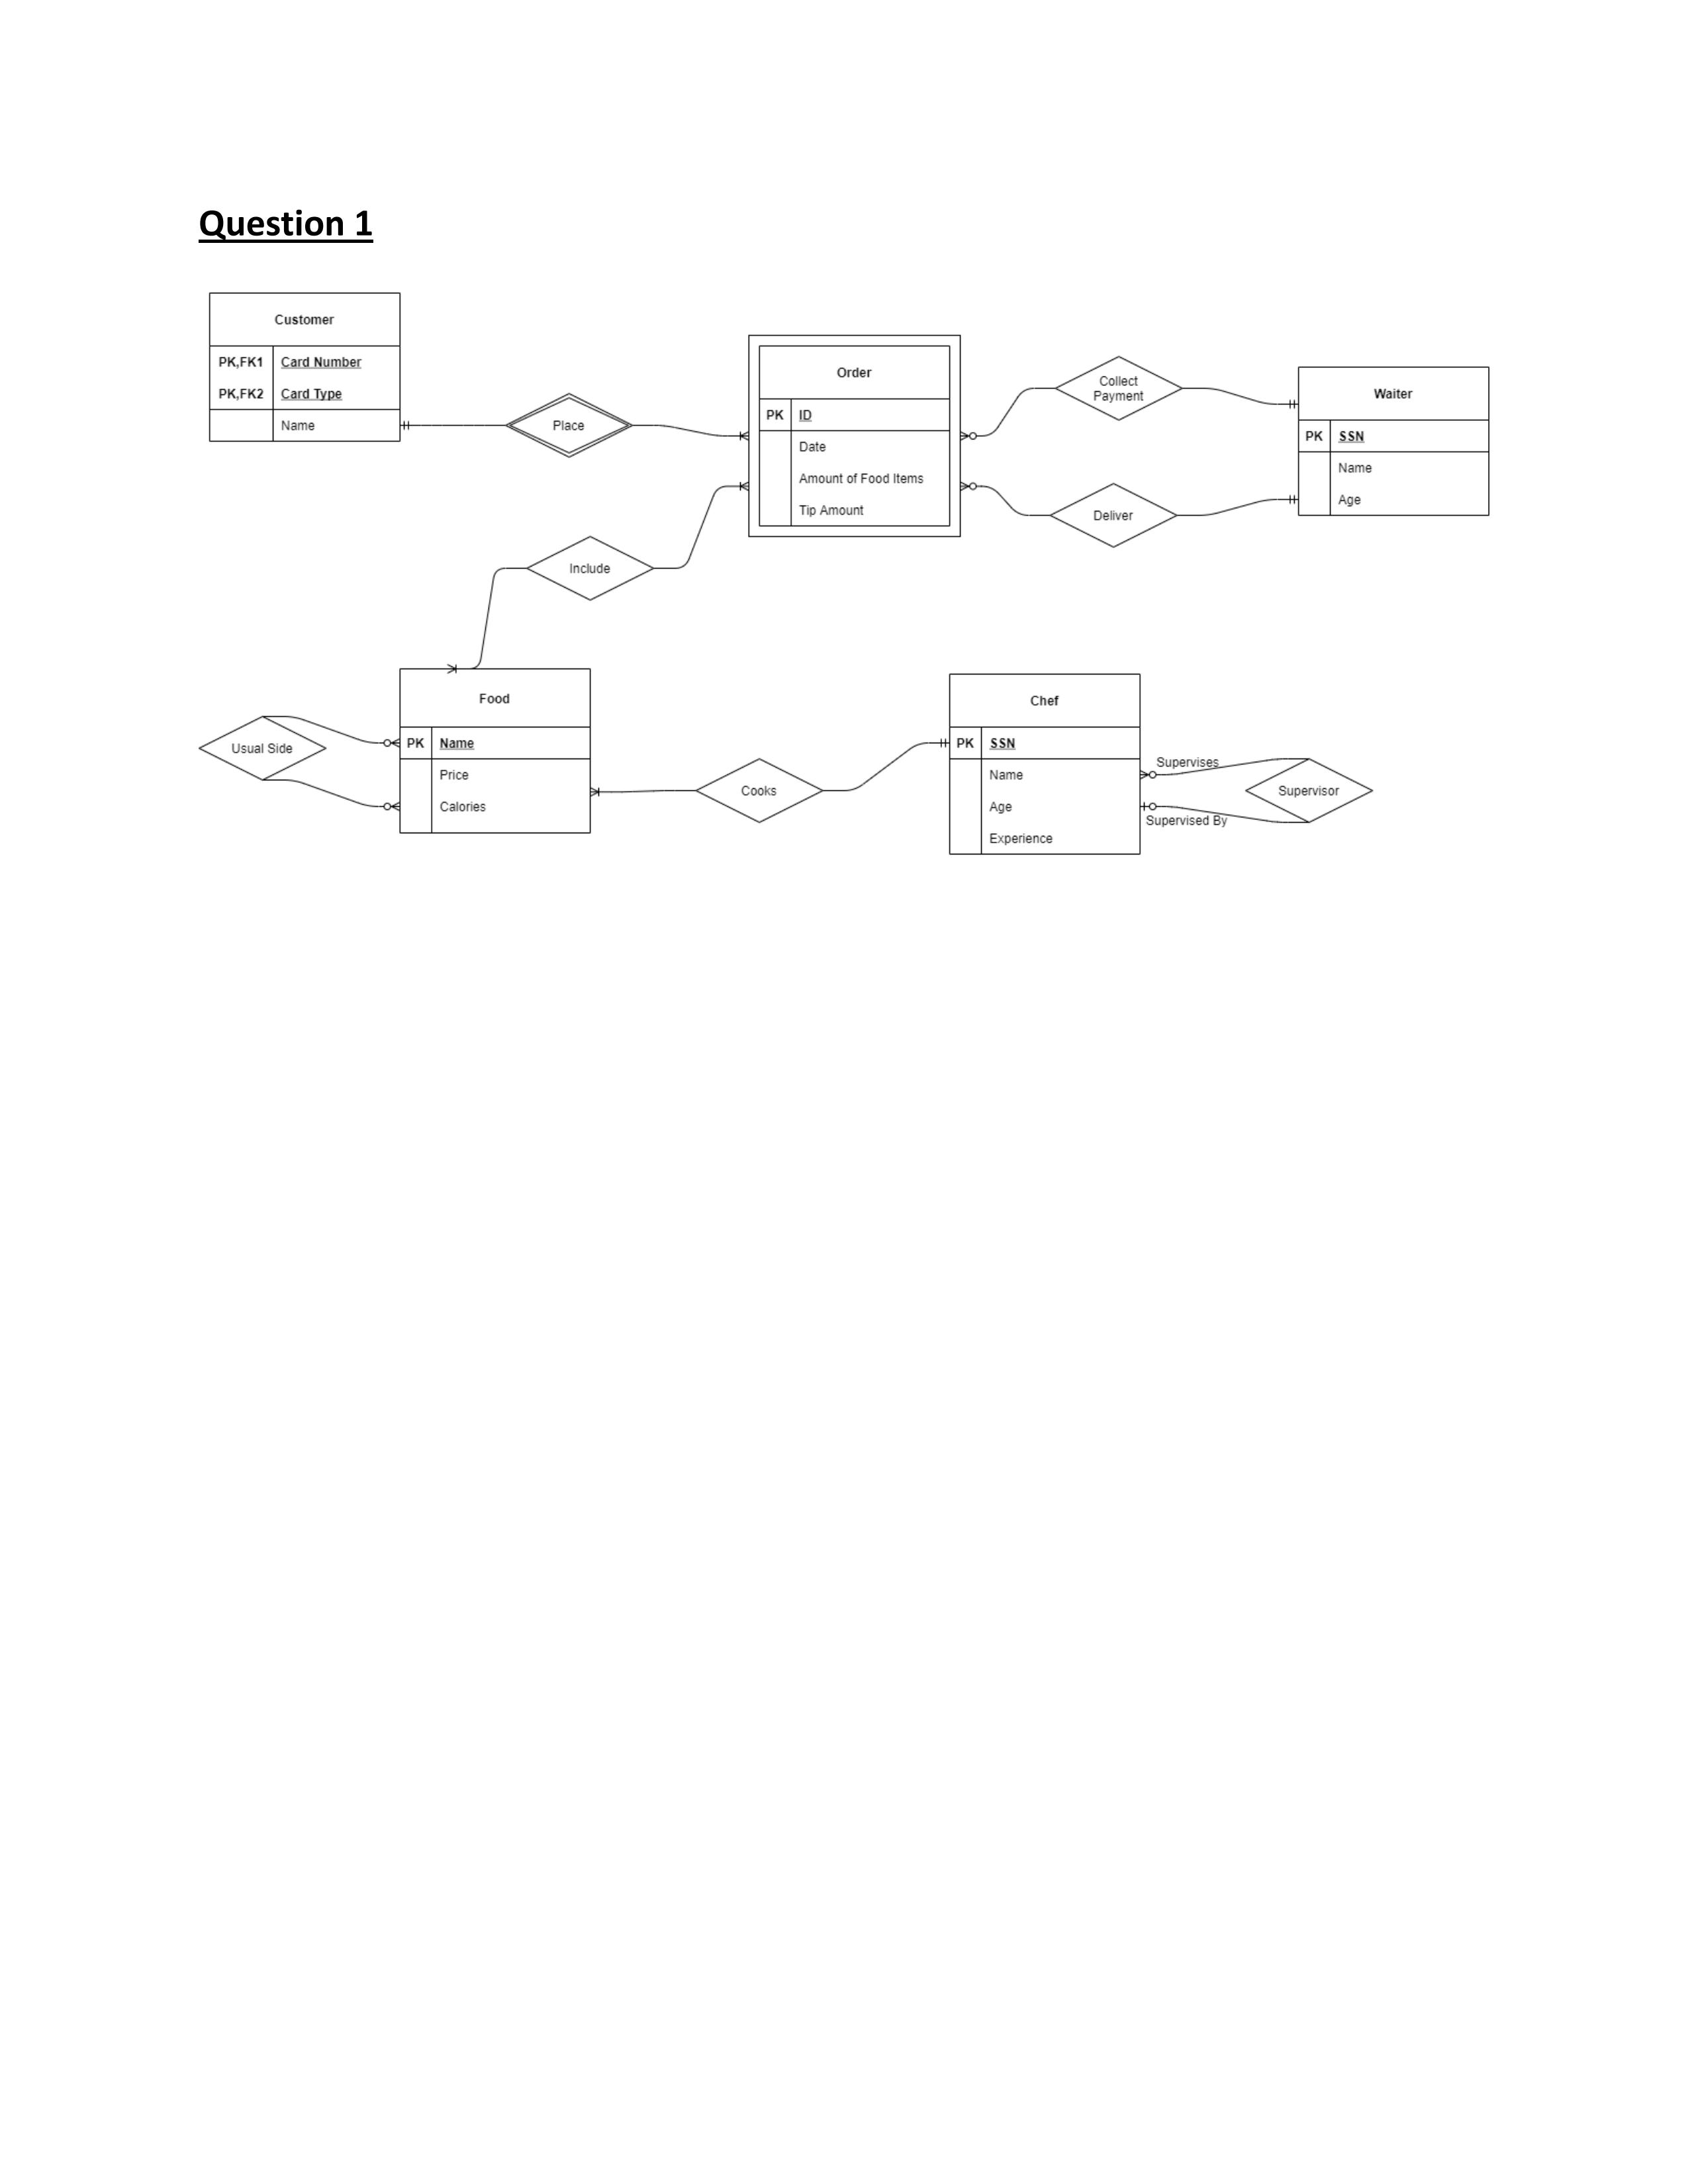Entity: (746, 333, 963, 539), (949, 672, 1142, 856), (397, 667, 592, 835), (207, 291, 402, 443), (1296, 365, 1491, 518)
Relationship: (199, 716, 326, 784), (505, 392, 633, 457), (525, 535, 653, 601), (1050, 482, 1177, 548), (1245, 759, 1374, 823), (697, 759, 823, 824), (1055, 356, 1183, 420)
